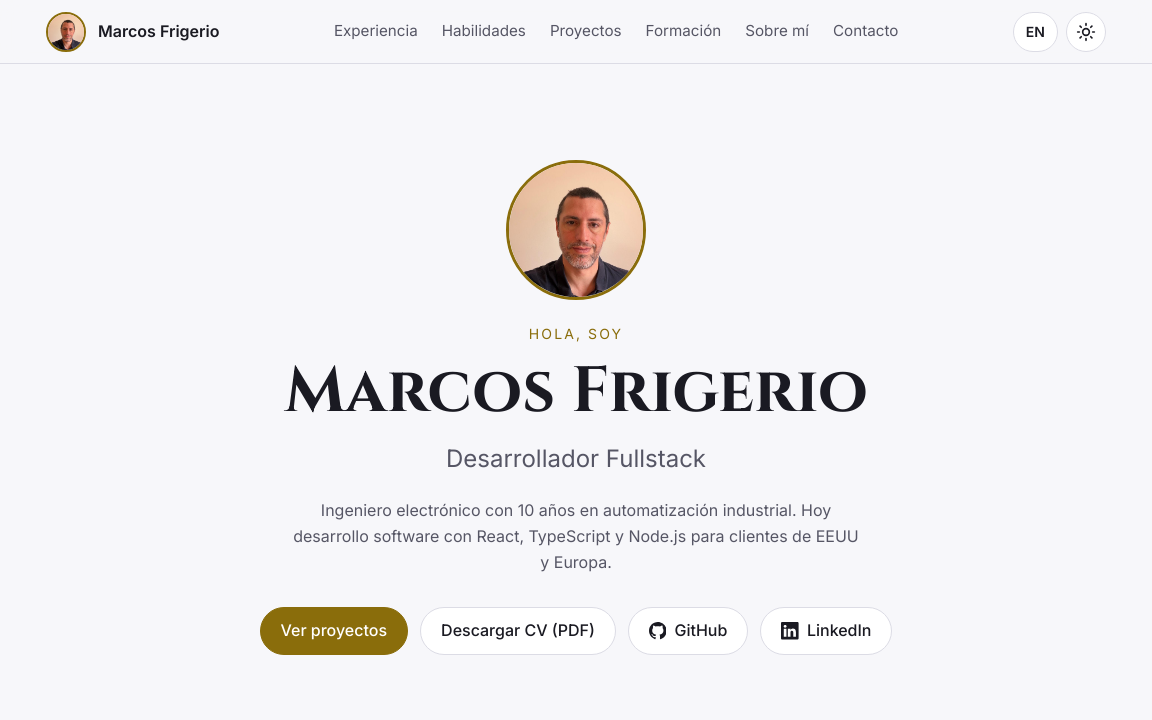
Test case: App › enlaza la demo y el codigo de Graph to SQL migrator
The image size is (1152, 720).
Click the button with aria-label "Cambiar idioma a inglés". click: (1035, 32)
box: x1=1013 y1=12 x2=1058 y2=52
(page scrolled)
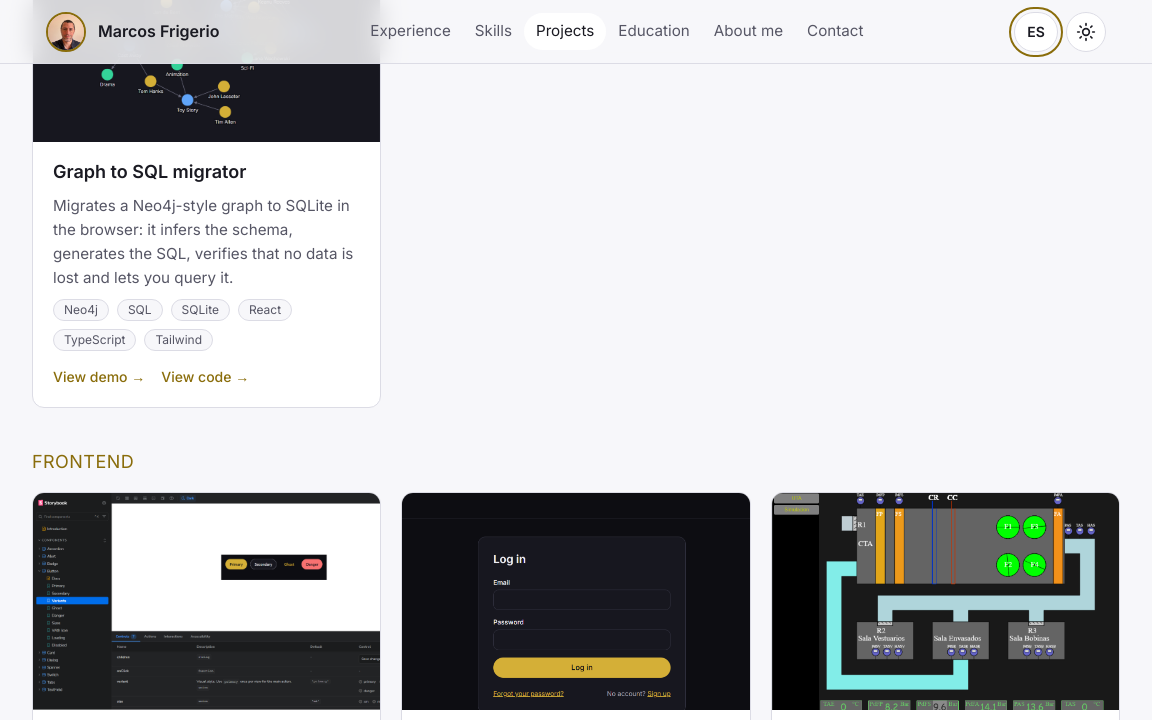
Check: the link "View code →" is shown, box x1=161 y1=367 x2=249 y2=387
